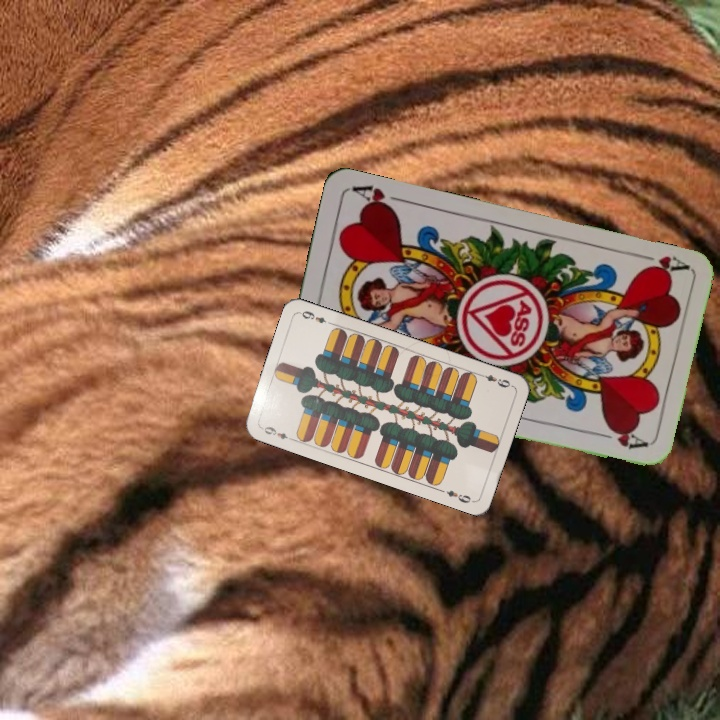E9: (475, 369, 515, 390), (257, 422, 290, 442)
HA: (631, 248, 690, 279)
